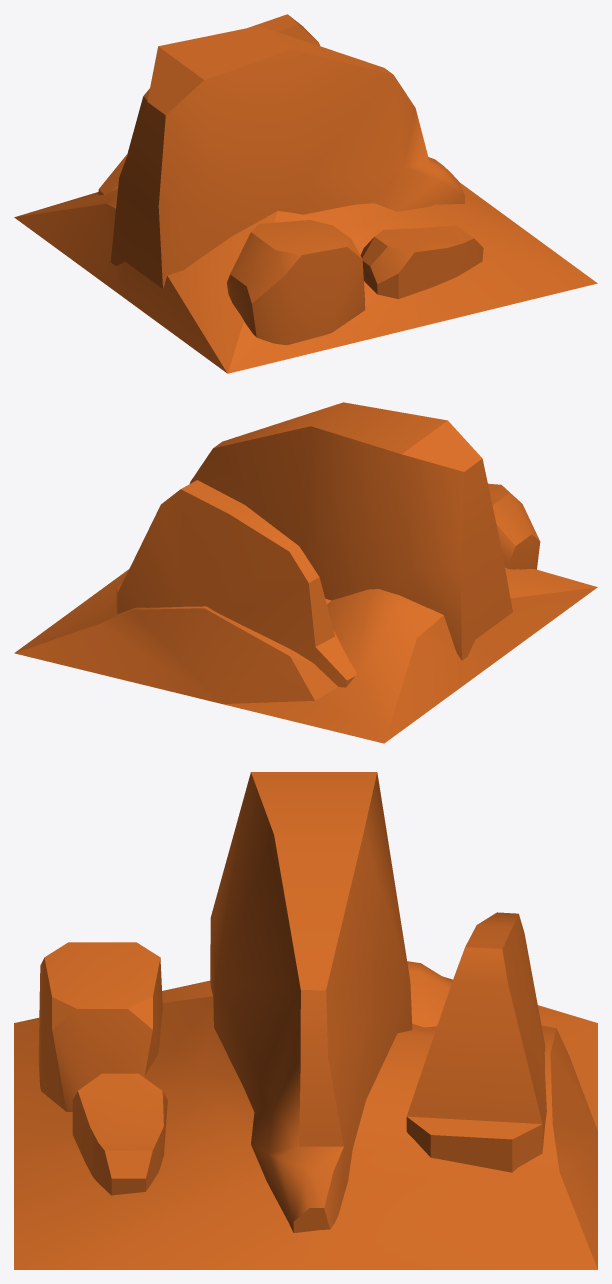
File: OBJ_SmallRock_08.FBX
3 renders of one model, top to bottom at view 1: azimuth 30°, elevation 25°; view 2: azimuth 150°, elevation 25°; view 3: azimuth 270°, elevation 25°, orthographic. The views are drawn at different scales.
Parts seen in each view (by area): view 1: OBJ_SmallRock_08; view 2: OBJ_SmallRock_08; view 3: OBJ_SmallRock_08.
Part boxes in pixels (x1,y1,x2,y2): OBJ_SmallRock_08: [14, 14, 597, 373]; OBJ_SmallRock_08: [14, 402, 597, 743]; OBJ_SmallRock_08: [14, 772, 597, 1269].
Size of the model in its own units: 6 by 3.43 by 6.
